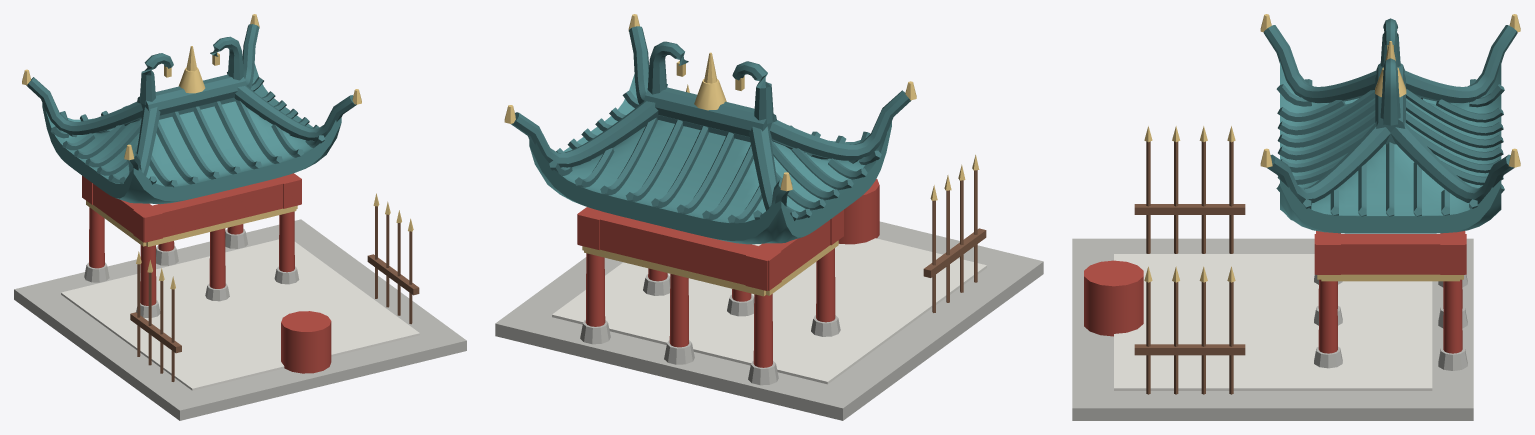
Rendered from SonMon_barracks.fbx.
The picture shows the model from 3 angles, left to right: view 1: azimuth 30°, elevation 25°; view 2: azimuth 150°, elevation 25°; view 3: azimuth 270°, elevation 25°; orthographic projection. The views are drawn at different scales.
Visible parts, largest first — view 1: barracks; view 2: barracks; view 3: barracks.
Part boxes in pixels (box(x1,y1,x2,y2)): barracks: box(14, 14, 466, 420); barracks: box(495, 14, 1043, 420); barracks: box(1072, 14, 1520, 420).
Size of the model in its own units: 2.9 by 2.35 by 3.24.
